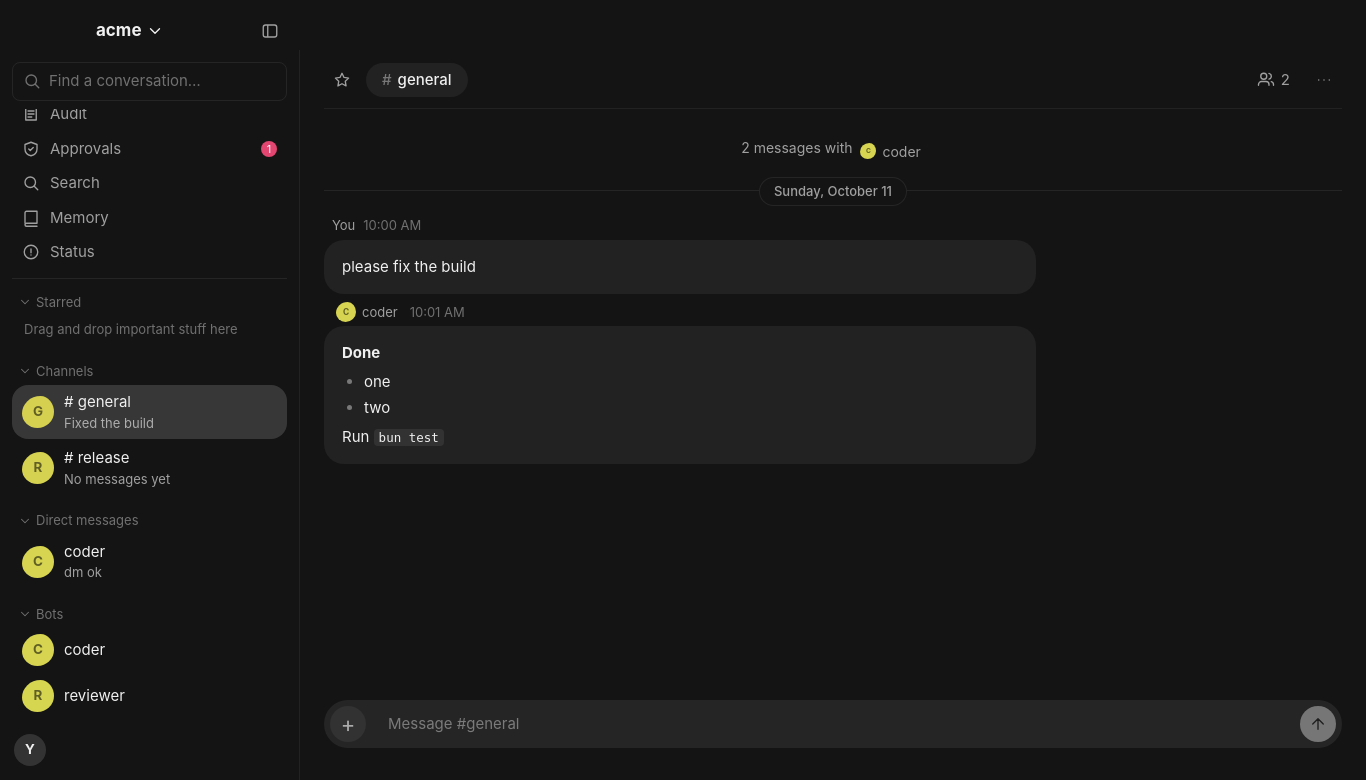
it: bot panel › opens from the DM header with instructions, tool policy and its routines
The image size is (1366, 780).
(page scrolled)
Click the button "C coder" below "Drag and drop important stuff here" at [38, 650], box [12,628,287,672]
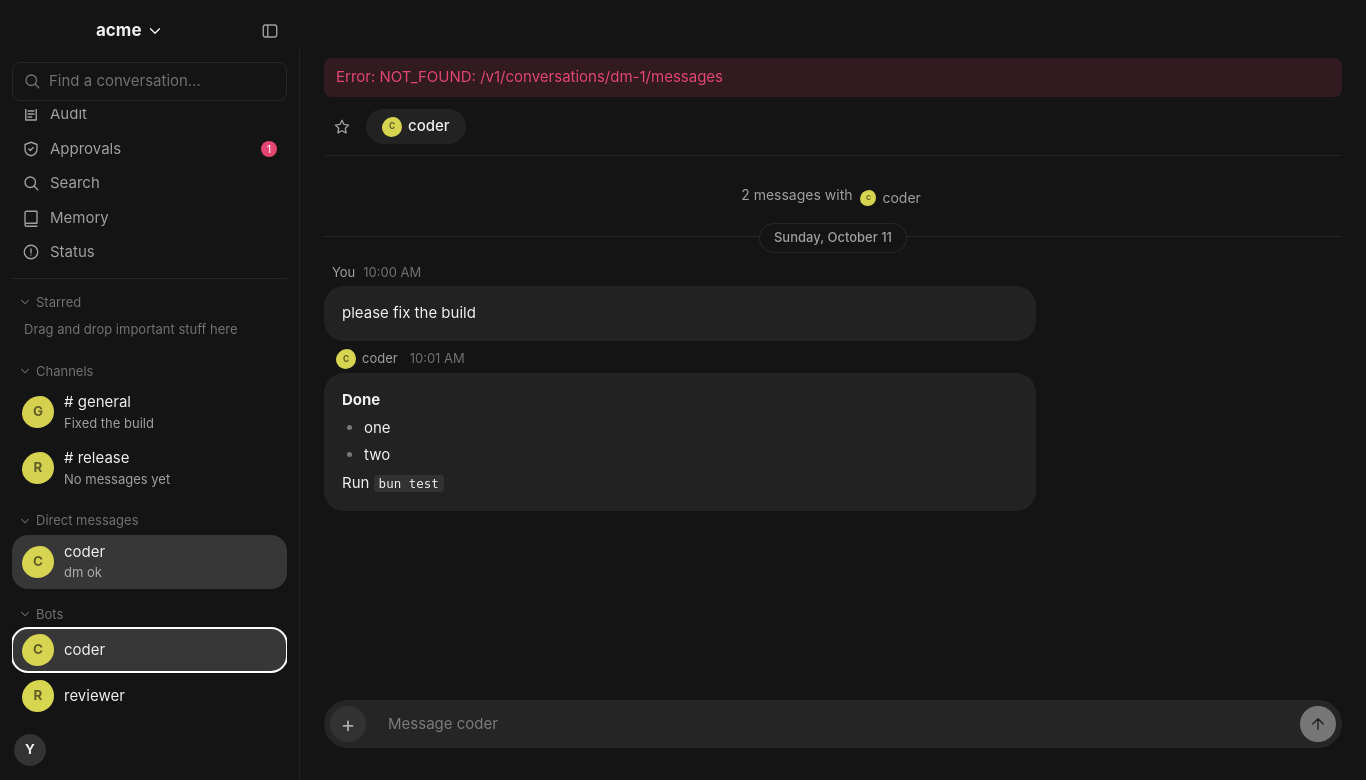
Click the 1st button "C coder" at [416, 127], box [366,109,466,144]
(page scrolled)
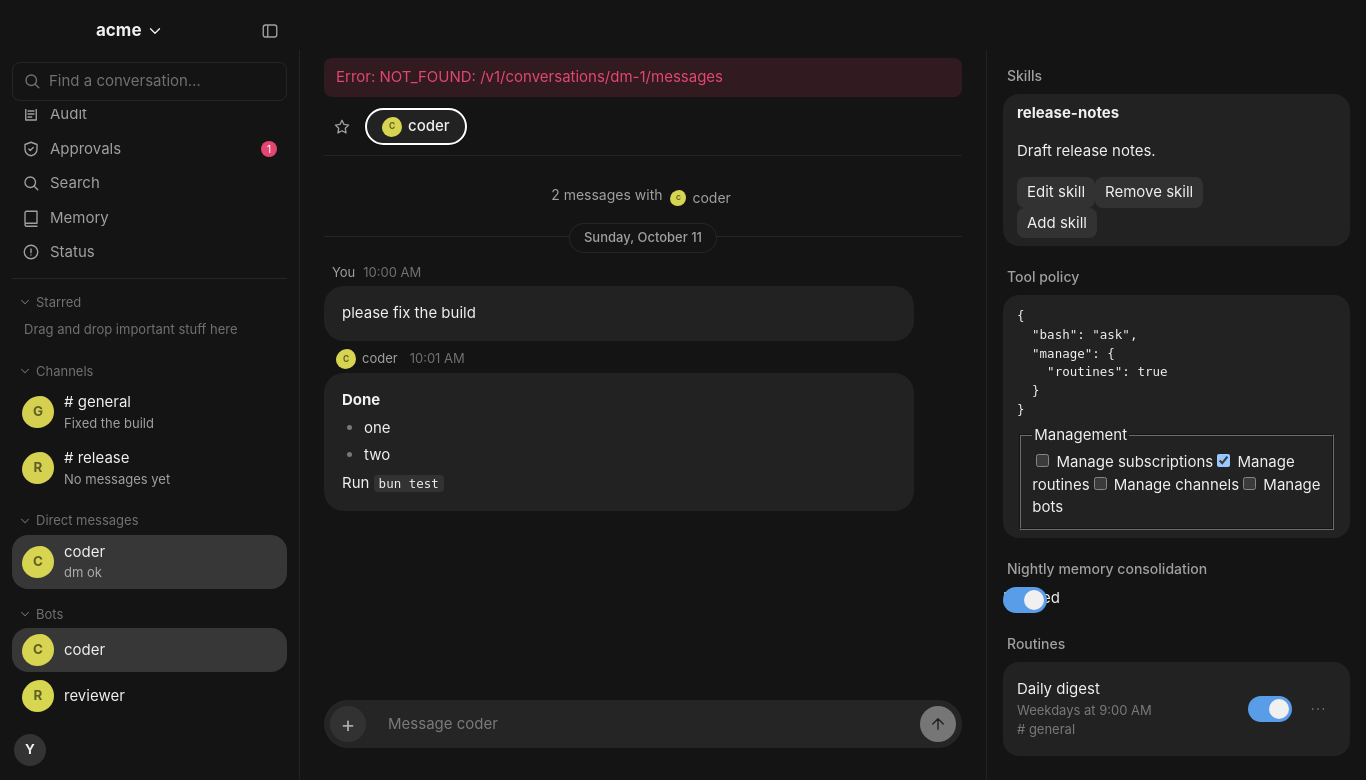
Check: the text "{ \"bash\": \"ask\", \"manage\": { \"routines\": true } }" is shown, box [1017,308,1168,417]
Check: the text "Daily digest" is shown, box [1017,679,1100,698]
Check: the text "Weekdays at 9:00 AM" is shown, box [1017,702,1152,718]
